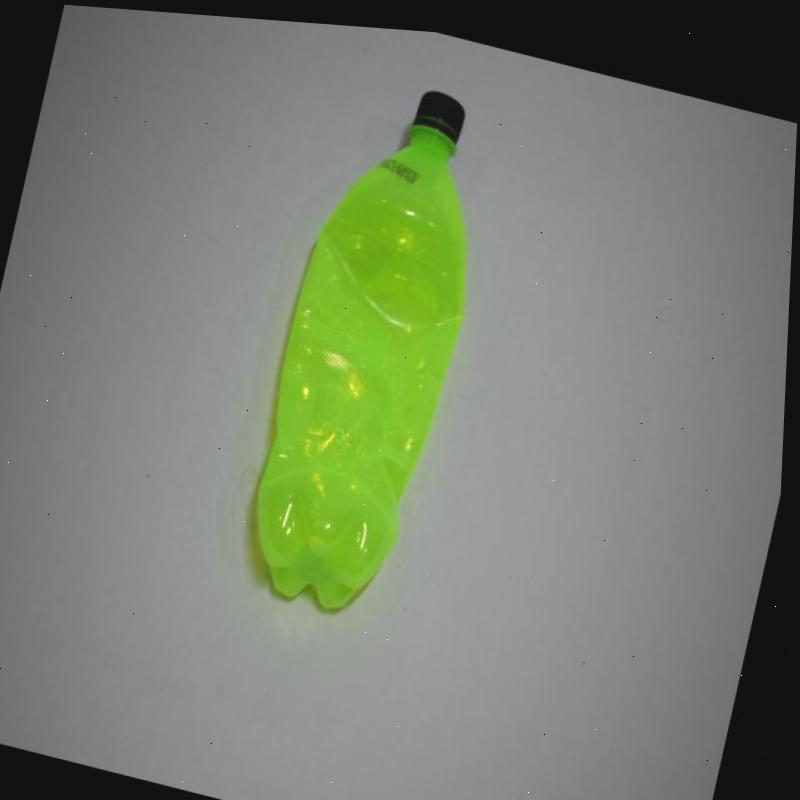botella: (236, 57, 515, 629)
